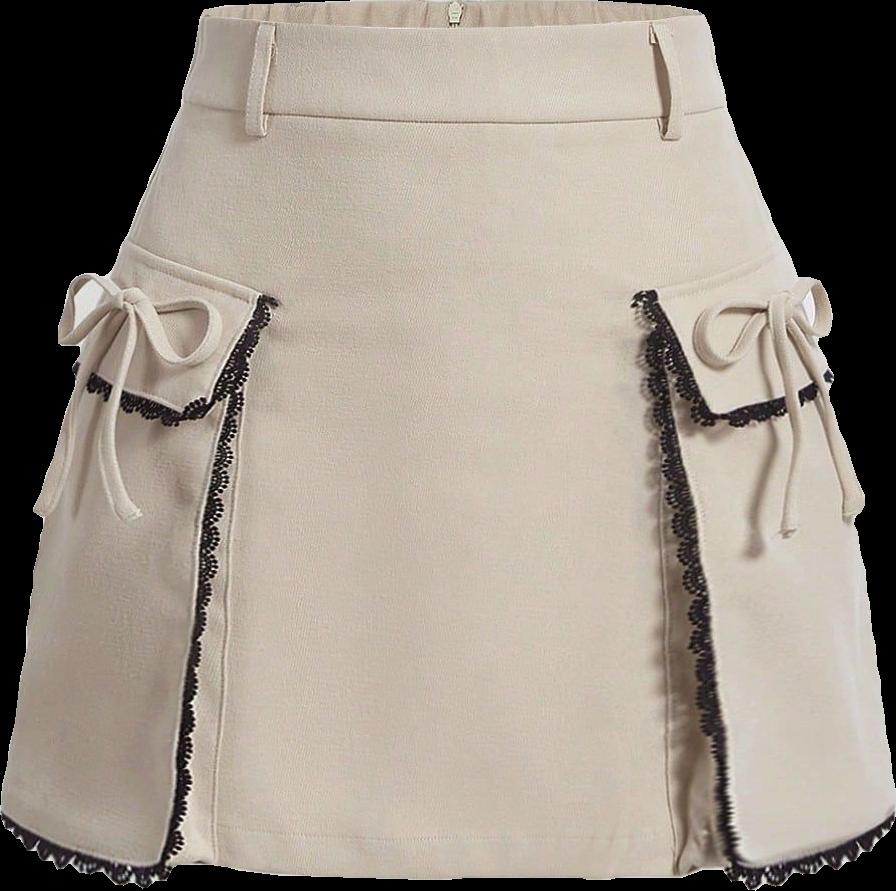Hemline: (0, 812, 895, 890)
Waistline: (639, 241, 788, 881), (123, 234, 274, 864), (181, 97, 729, 127), (199, 8, 705, 36)
